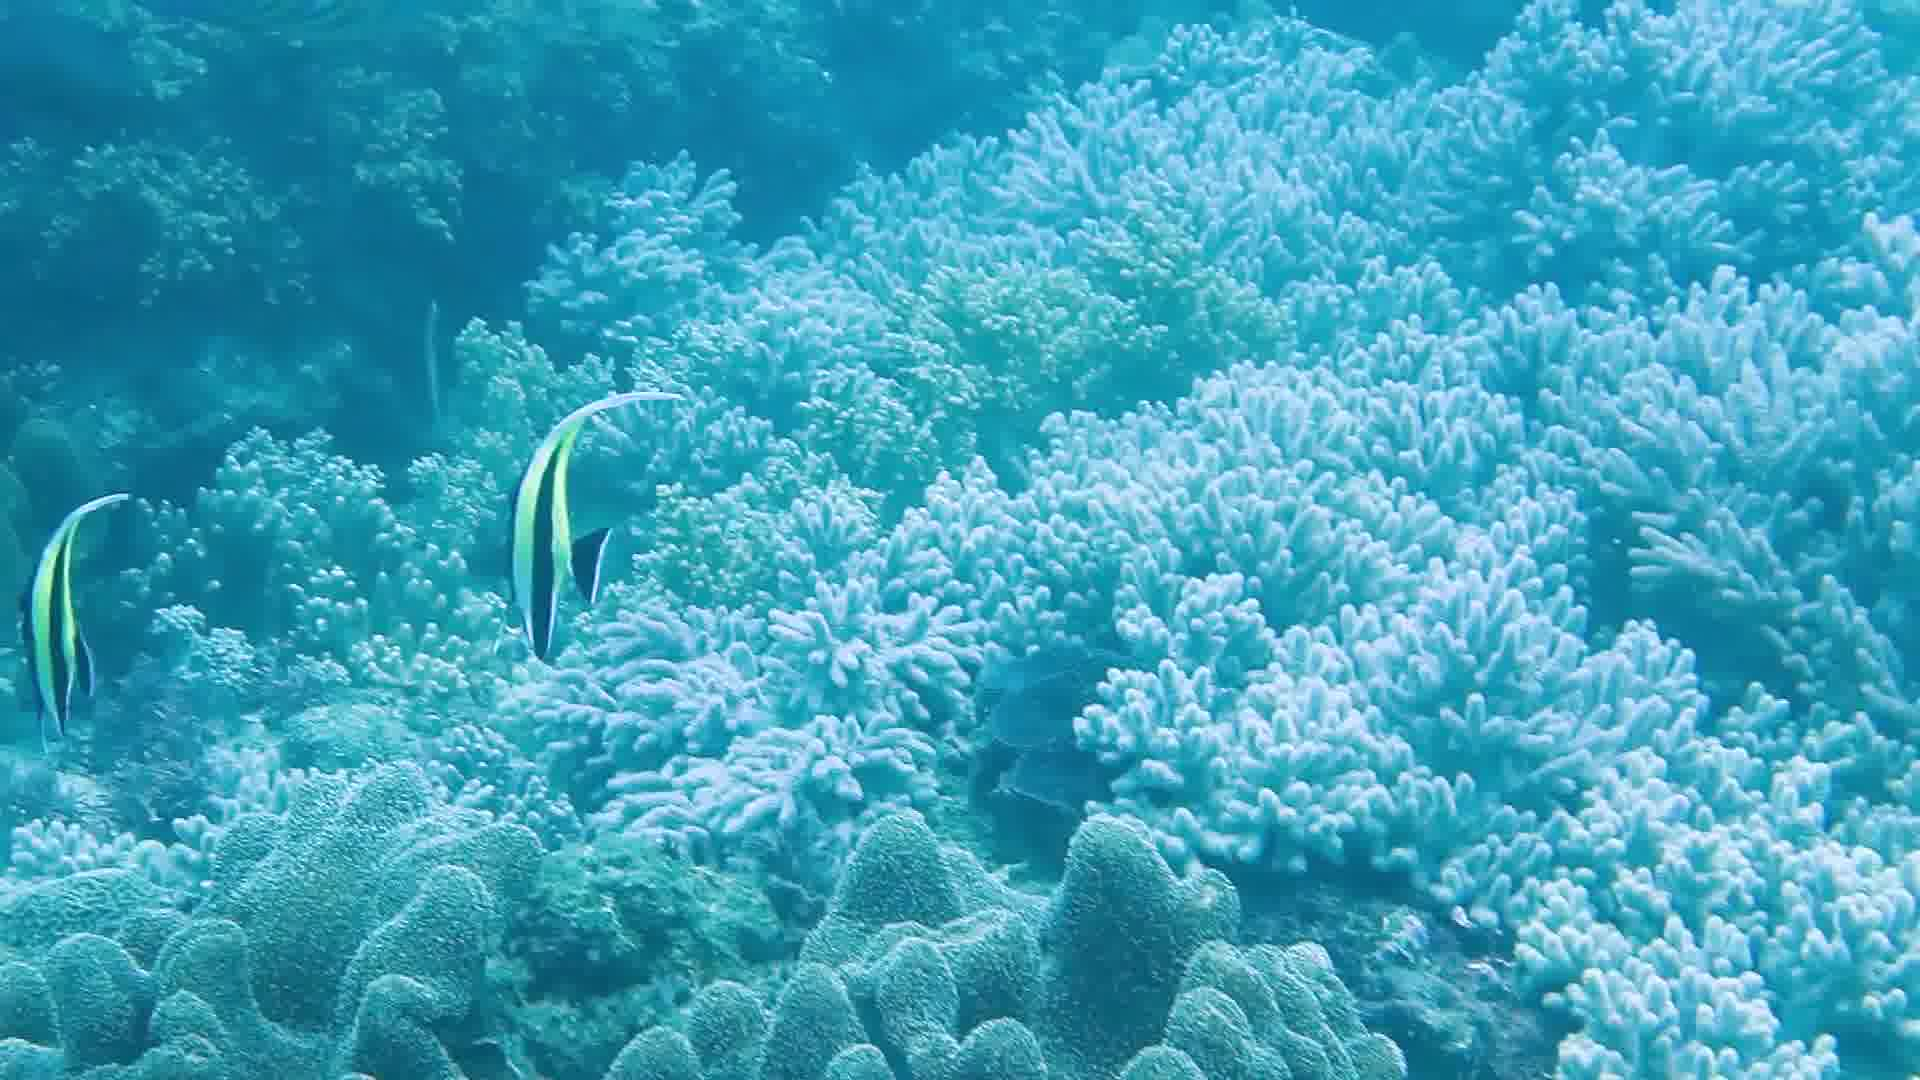Zanclus cornutus: (1, 455, 162, 773), (509, 406, 613, 659)
